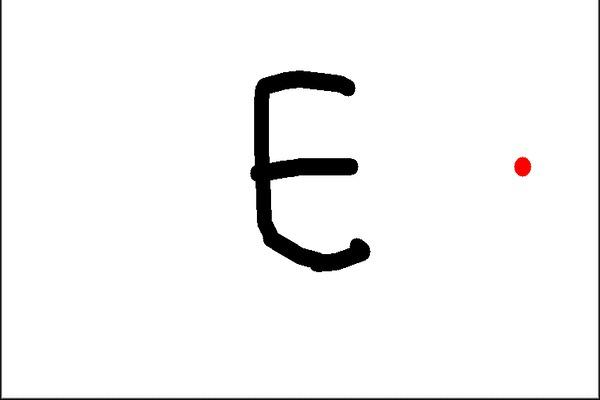E: (245, 65, 375, 276)
